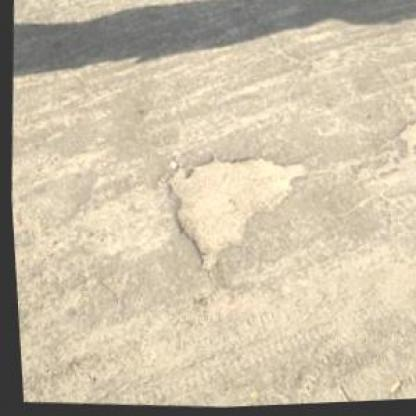pothole: (151, 148, 316, 283), (390, 119, 414, 157)
